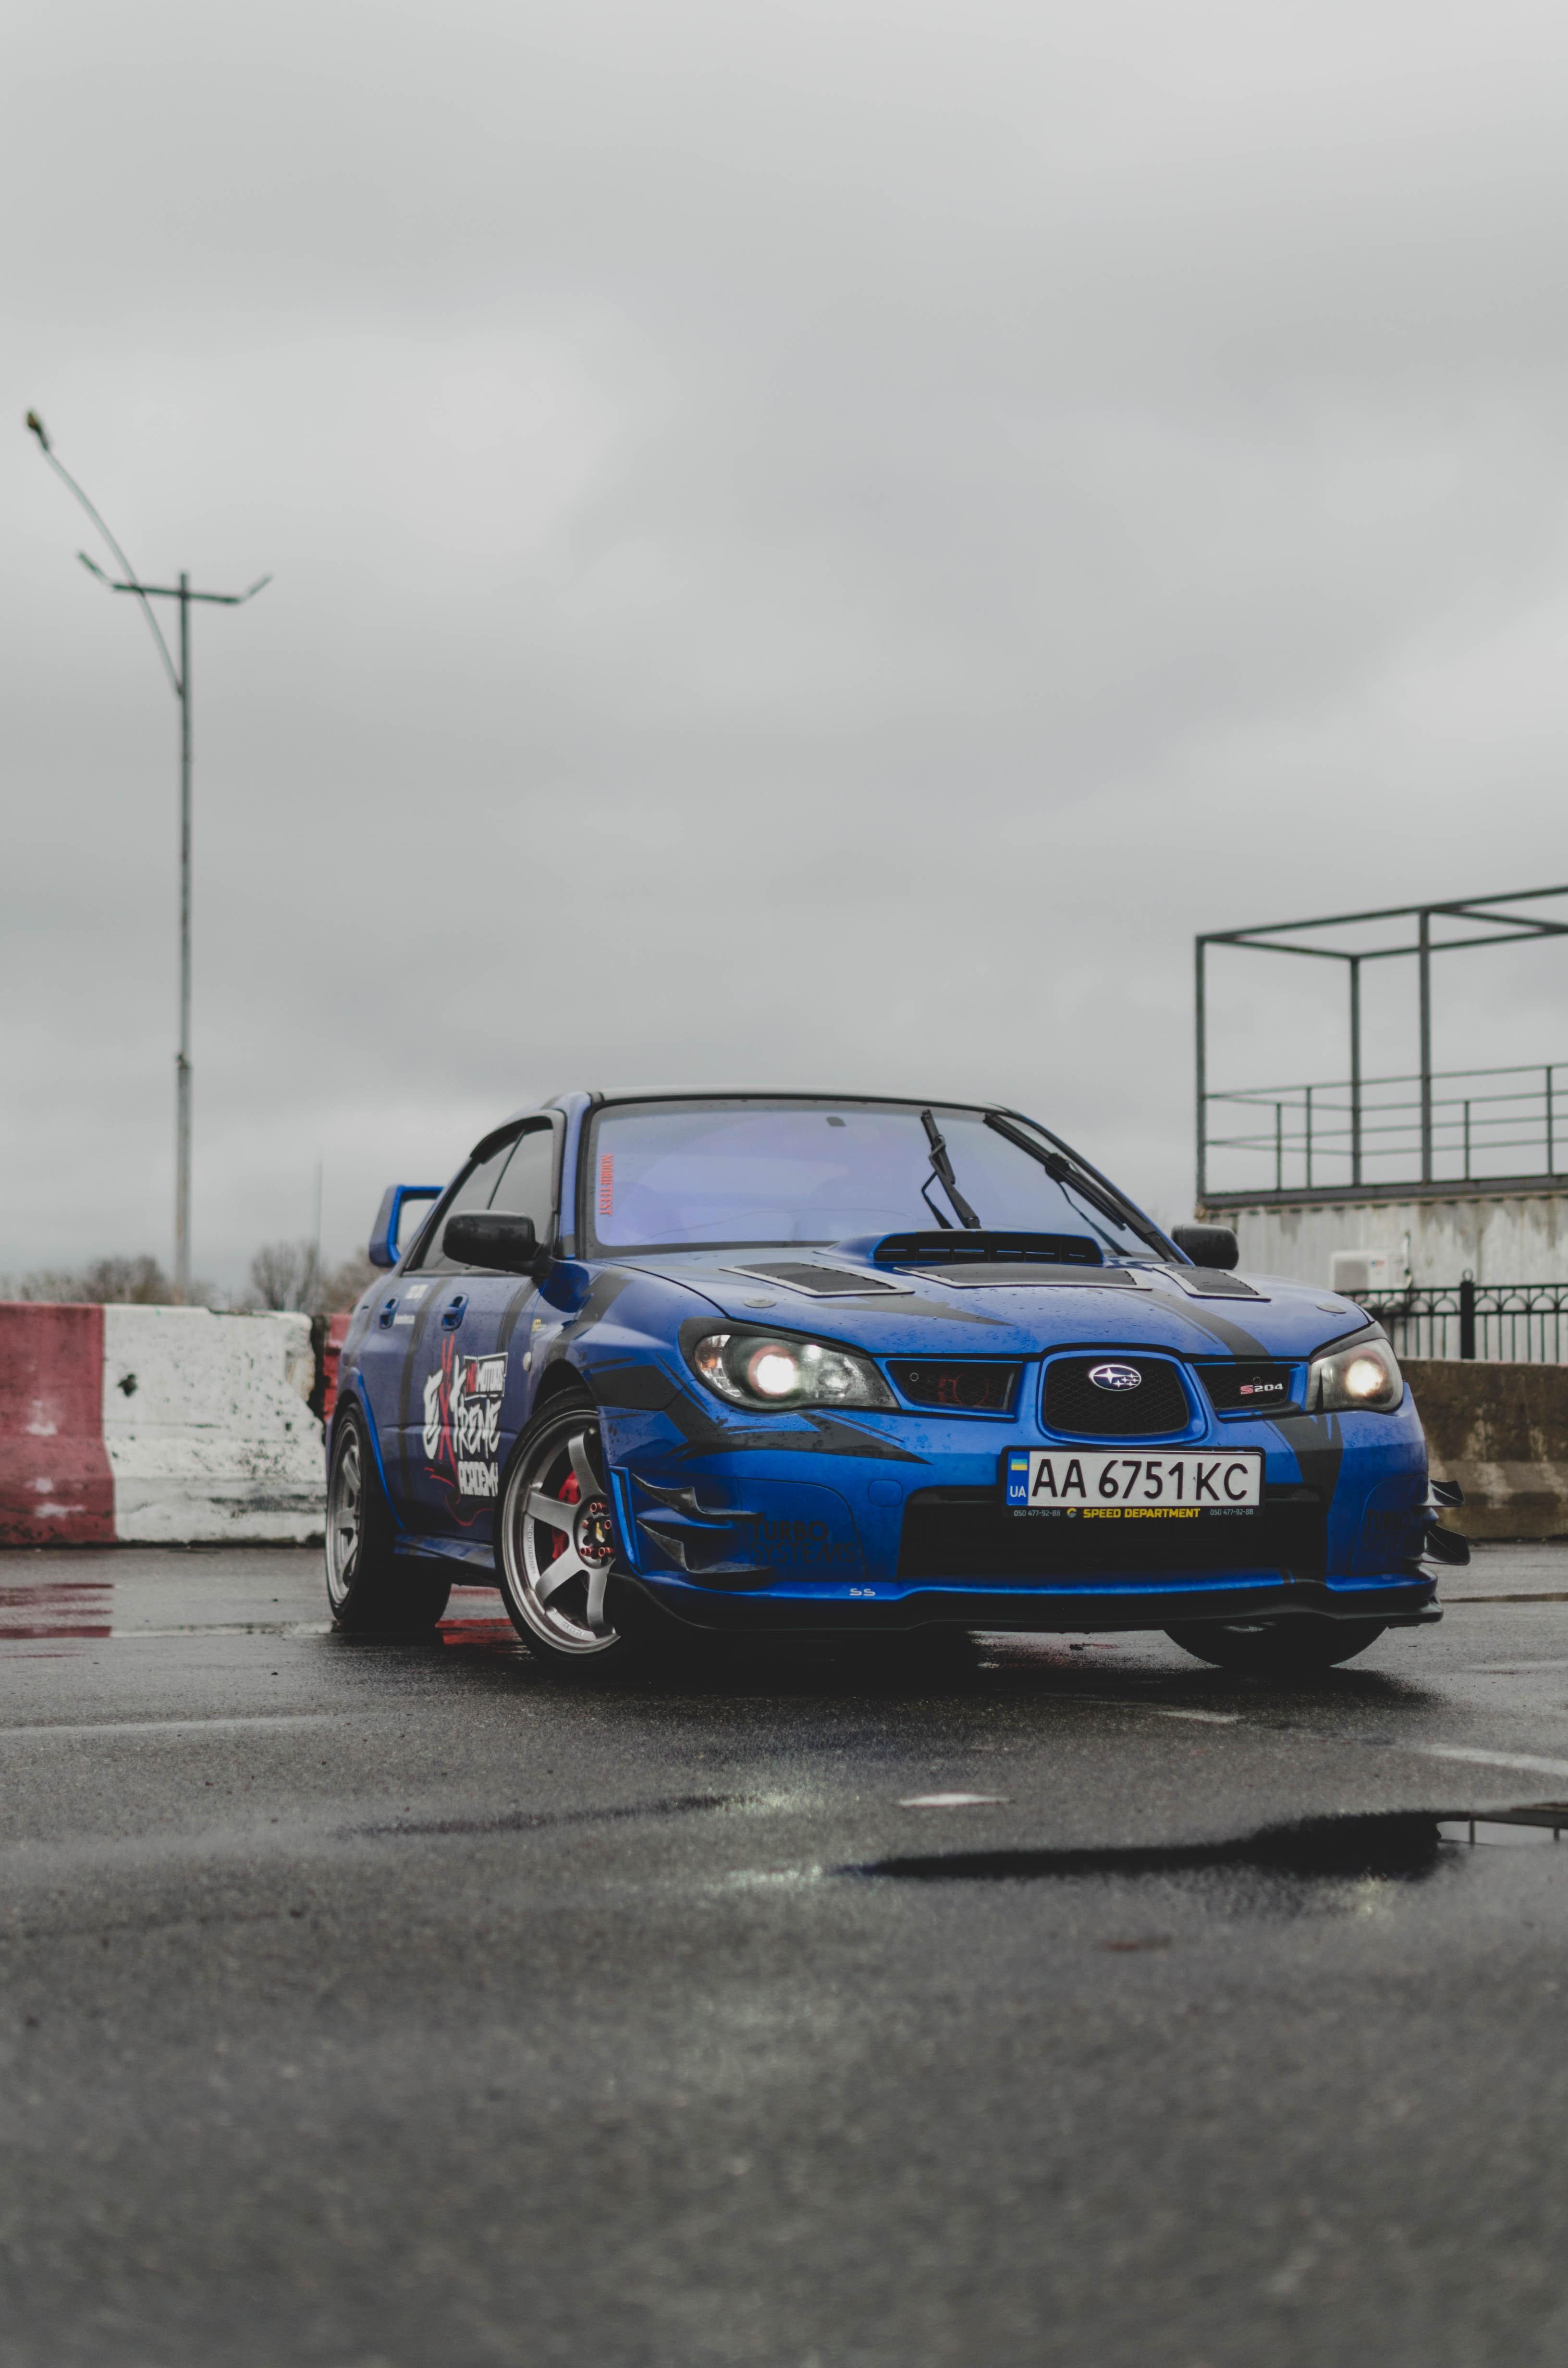subaru: (1050, 1334, 1169, 1419)
